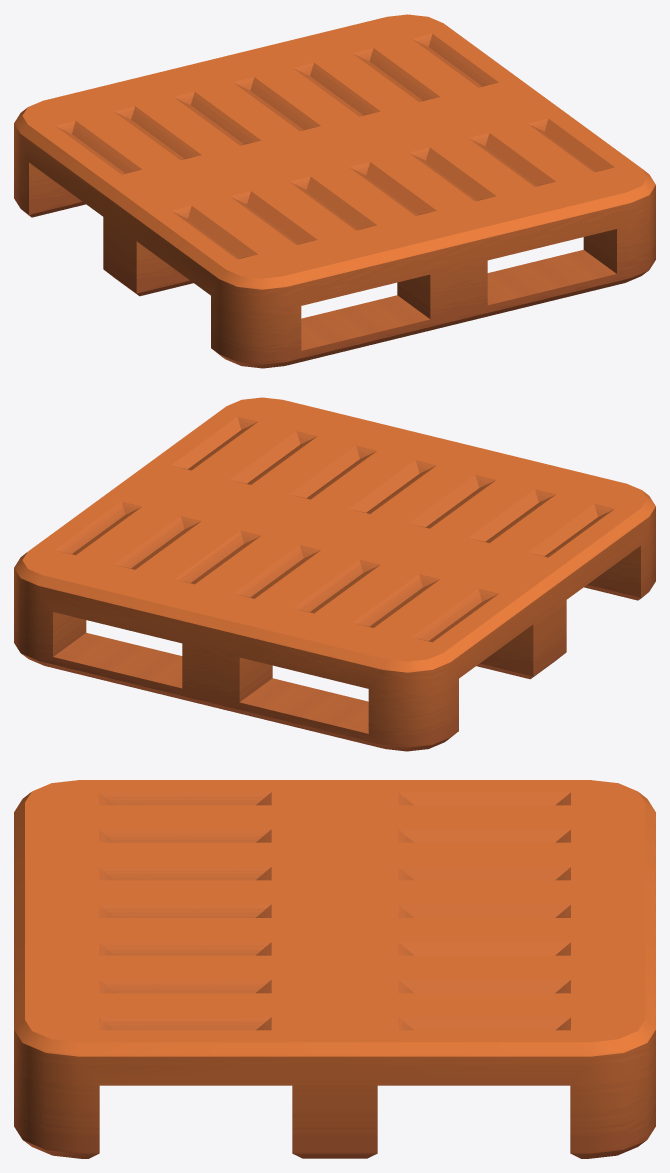
File: Pallet_Plastic_Orange.gltf
3 renders of one model, top to bottom at view 1: azimuth 30°, elevation 25°; view 2: azimuth 150°, elevation 25°; view 3: azimuth 270°, elevation 25°, orthographic. The views are drawn at different scales.
Visible parts, largest first — view 1: Pallet_Plastic_Orange; view 2: Pallet_Plastic_Orange; view 3: Pallet_Plastic_Orange.
Part boxes in pixels (x1=…): Pallet_Plastic_Orange: x1=14, y1=14, x2=655, y2=368; Pallet_Plastic_Orange: x1=14, y1=397, x2=655, y2=751; Pallet_Plastic_Orange: x1=14, y1=780, x2=655, y2=1158.
Bounding box in the file's own units: 1.5 × 0.3 × 1.5.
Materials: 1 (1 with a texture image).
